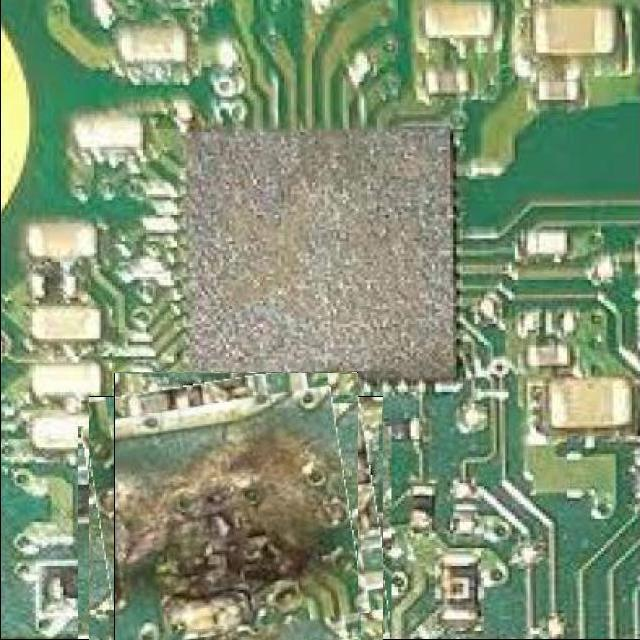damged: (102, 383, 371, 640)
